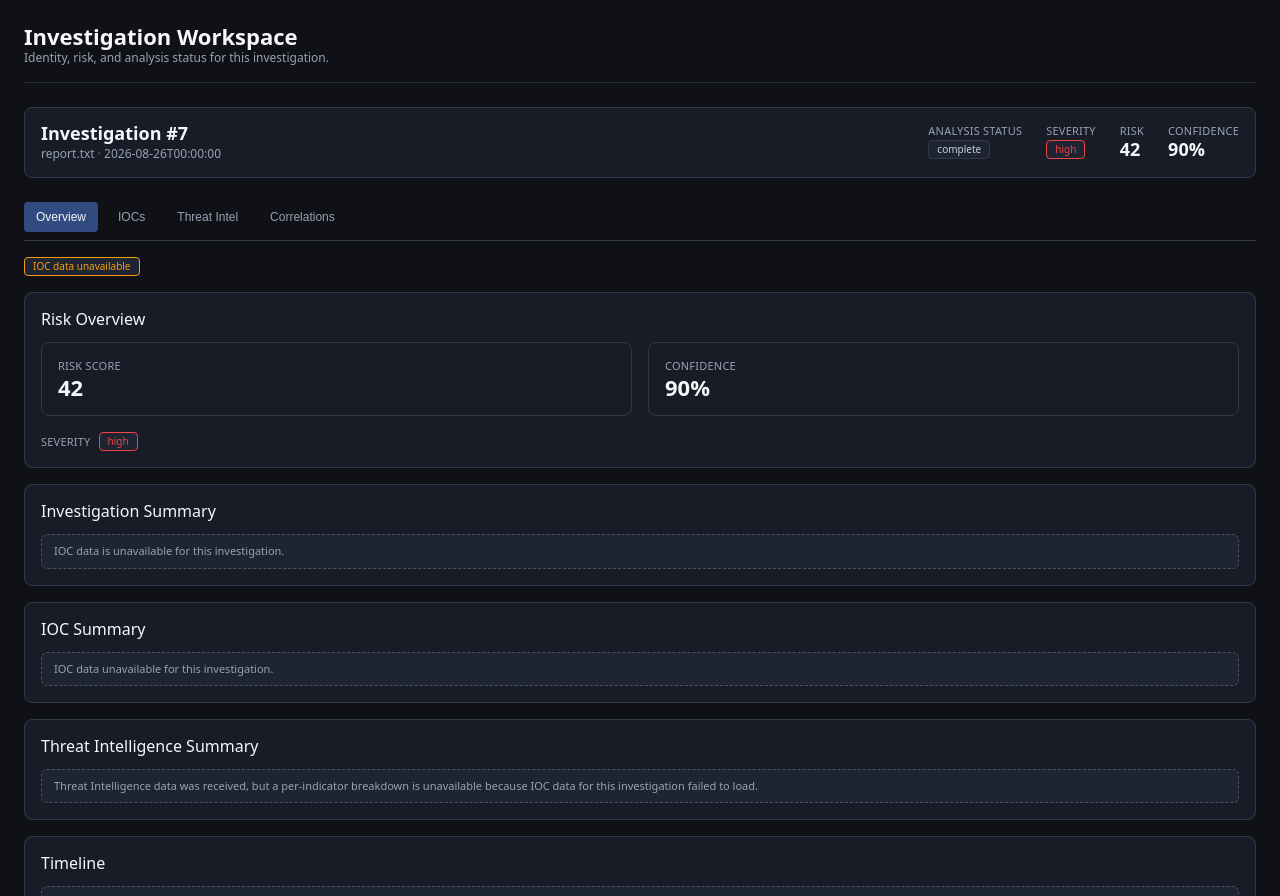
Test: InvestigationWorkspacePage › Correlations tab (Part 4A) › keeps the Correlations tab independent when IOC data is unavailable
What coordinates should you click on to do the following:
click the tab "Correlations"
I would click on:
 (302, 217)
Its box is [258,202,347,232].
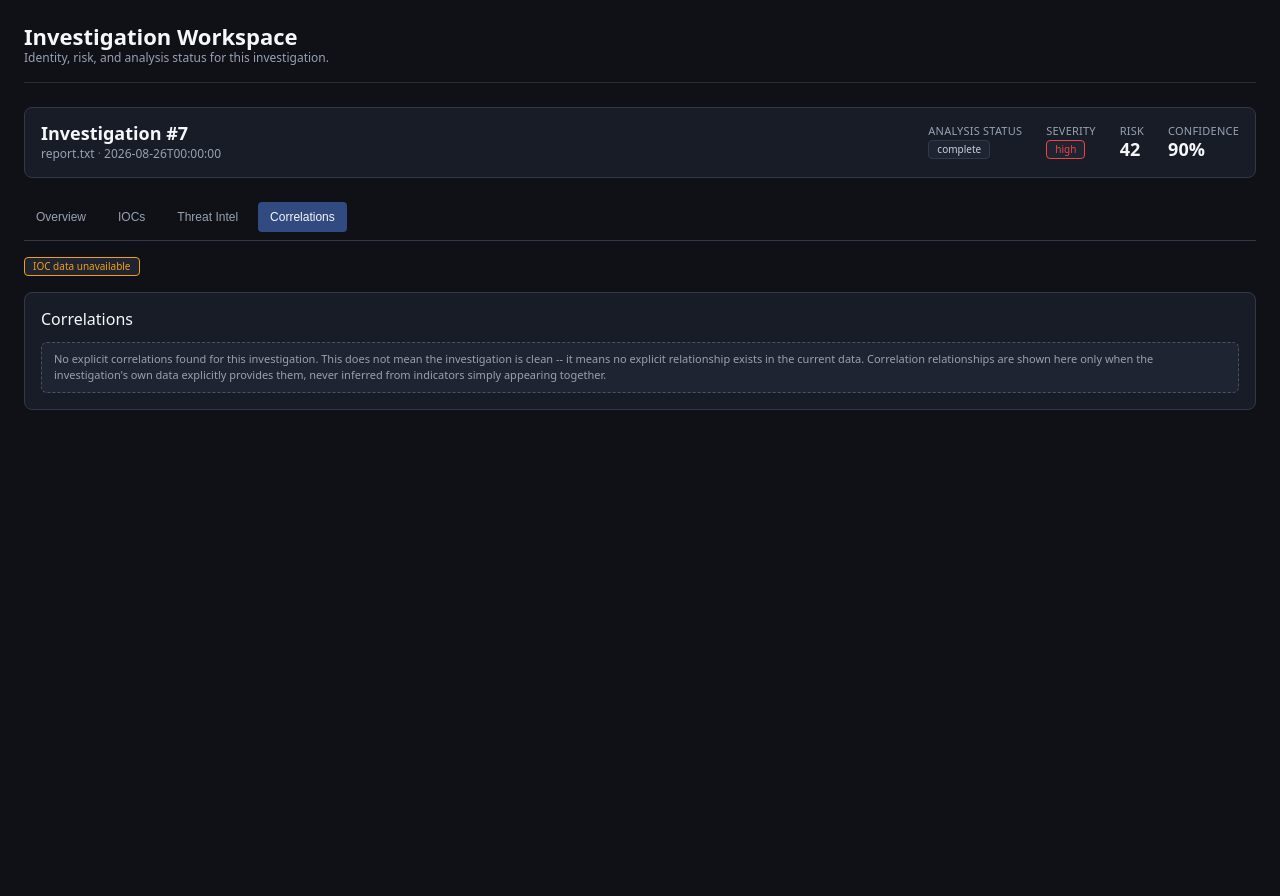
Result: the element with class "investigation-correlations" shows "No explicit correlations found" at [54,351,1153,382]
